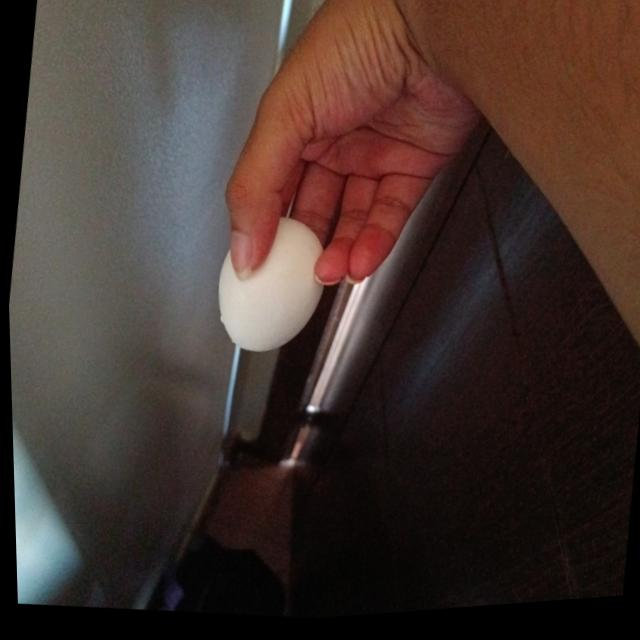egg: (209, 213, 329, 363)
